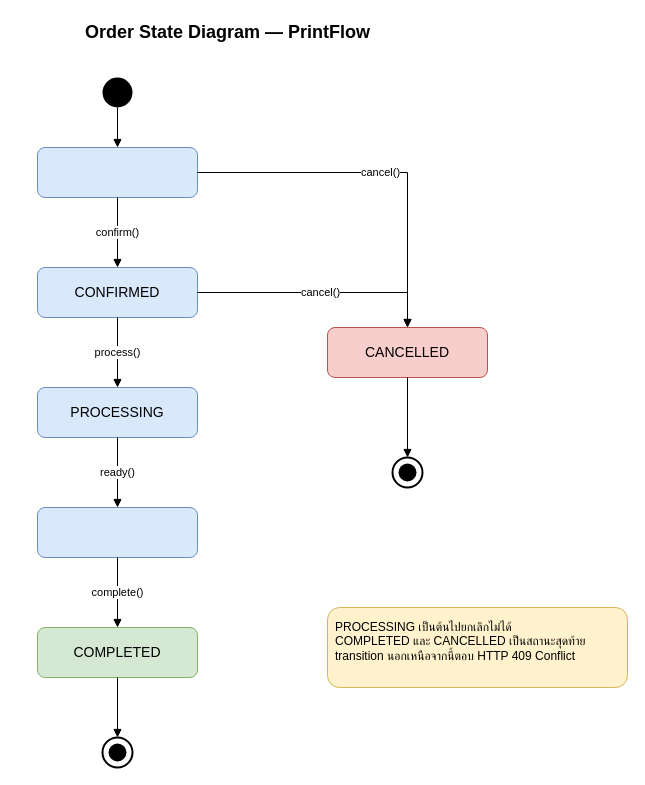
This 645x785 diagram has some shape labels left out. Each missing label, with the box of its shape:
PENDING: (36, 146, 198, 198)
READY: (36, 506, 198, 558)
